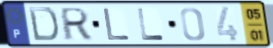0: (179, 7, 207, 43)
4: (215, 5, 240, 43)
D: (26, 6, 61, 43)
L: (136, 7, 167, 42), (102, 7, 132, 42)
R: (60, 7, 93, 42)
